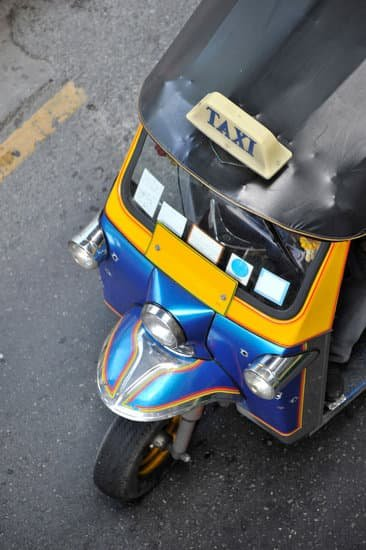threewheel: (67, 1, 366, 503)
